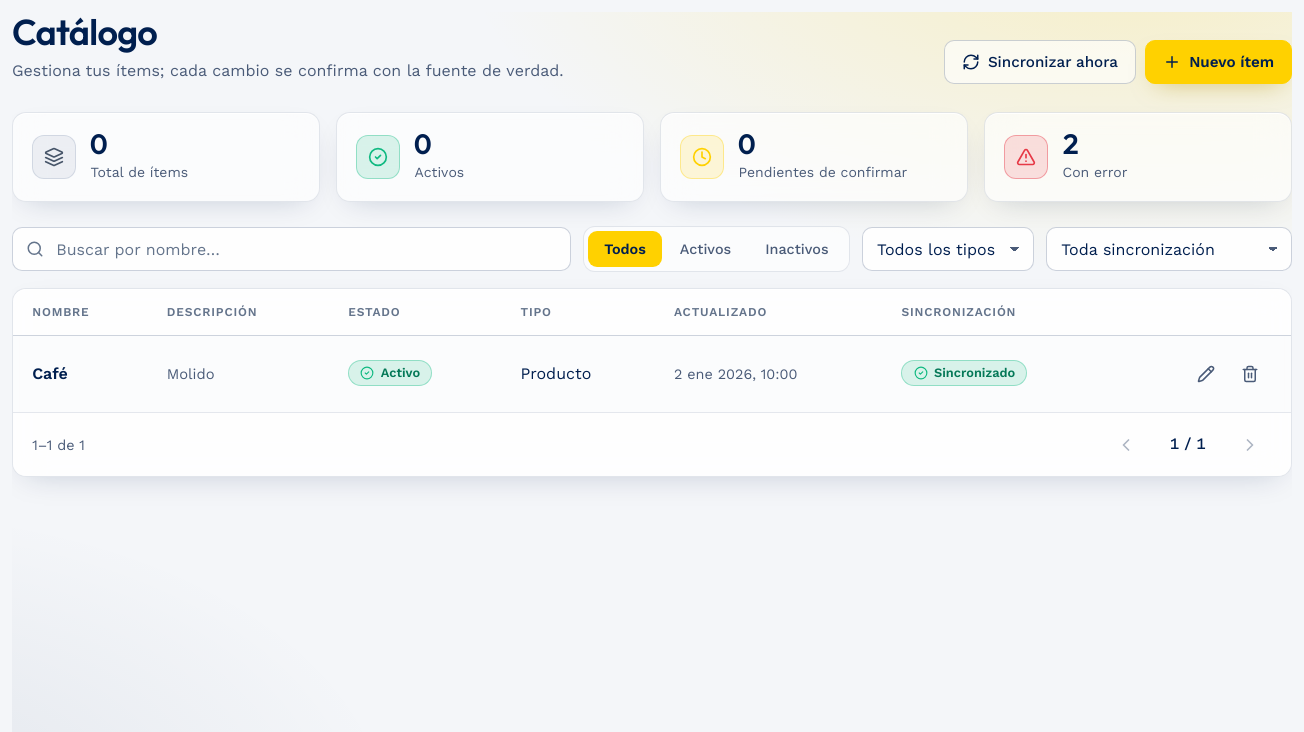
Test case: CatalogoList › filtra por tipo y por sincronización en el servidor; la tarjeta "Con error" es un atajo
expect the text "Café" is shown: met, box 13,336 -> 148,412
Select "Servicio" in the dropdown named "Filtrar por tipo" at [948, 249], box 862,227 -> 1034,271
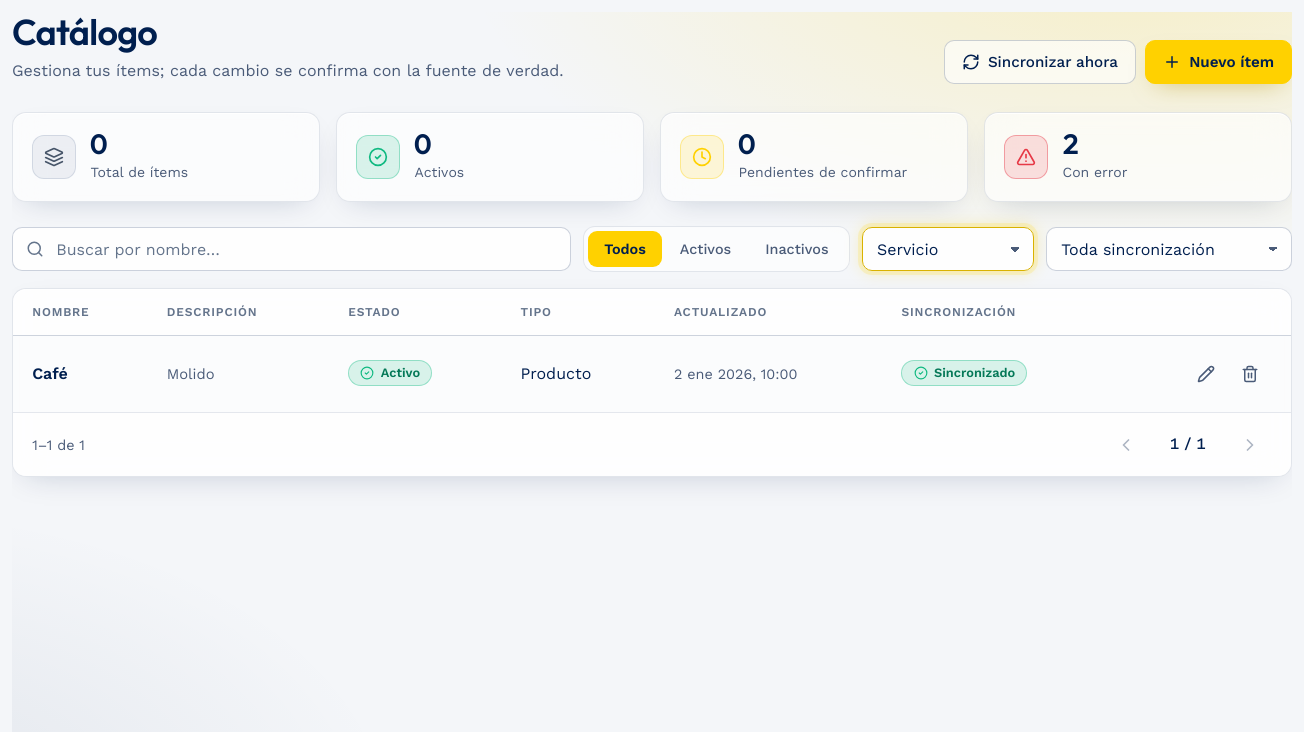
Click the button "2 Con error" at [1026, 157], box 984,112 -> 1292,202
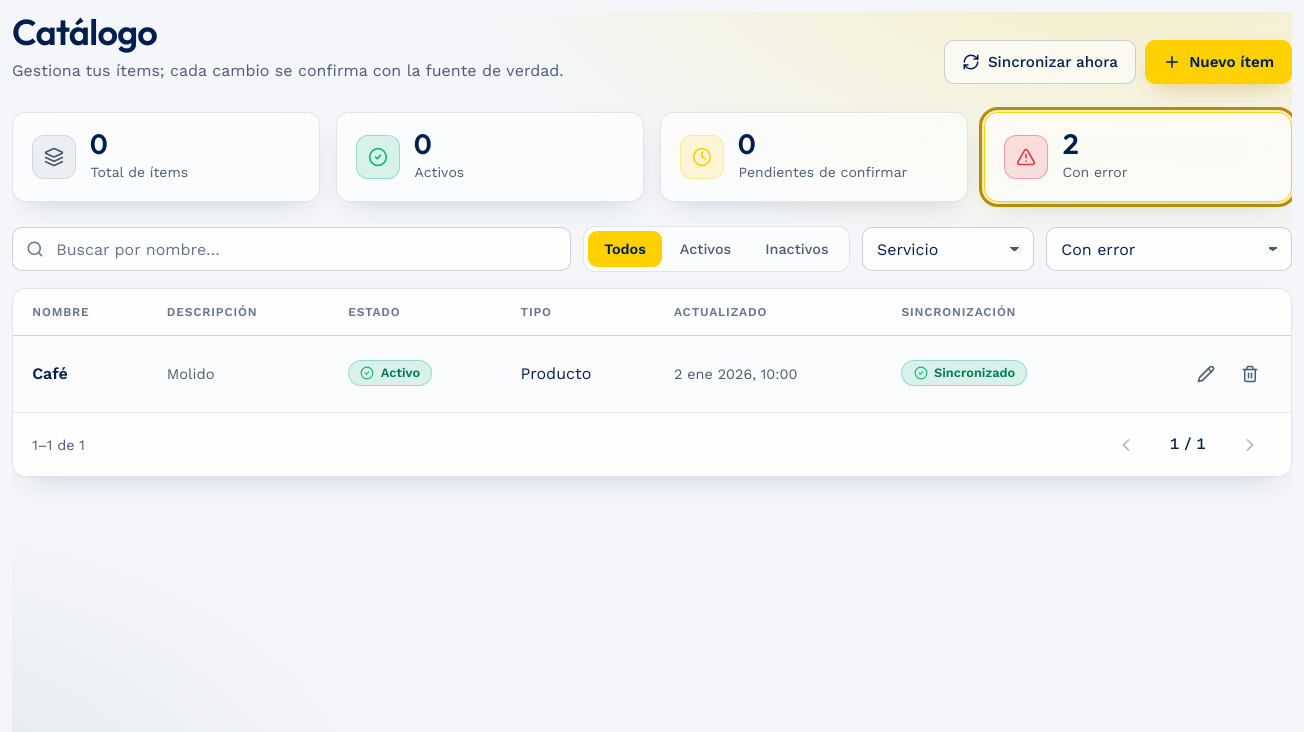
expect the dropdown named "Filtrar por sincronización" shows "Con error": met, box 1046,227 -> 1292,271
